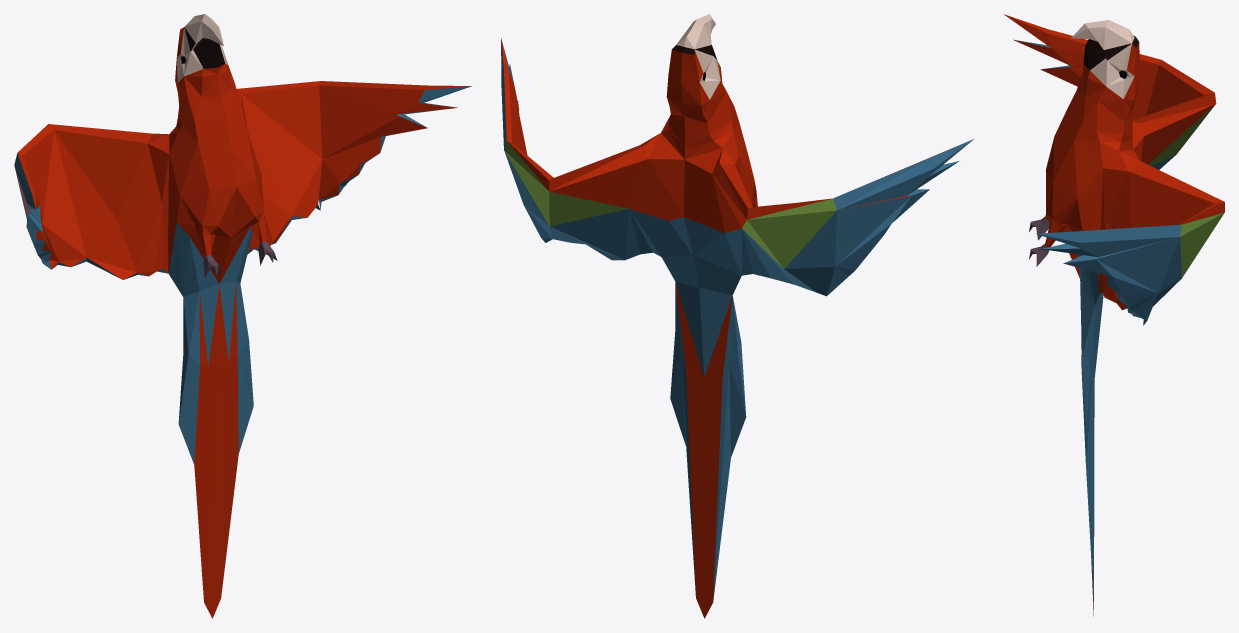
Rendered from Parrot.glb.
The picture shows the model from 3 angles, left to right: view 1: azimuth 30°, elevation 25°; view 2: azimuth 150°, elevation 25°; view 3: azimuth 270°, elevation 25°; orthographic projection.
Visible parts, largest first — view 1: Object_0; view 2: Object_0; view 3: Object_0.
Boxes of the visible parts, x1=… form: Object_0: x1=14, y1=14, x2=471, y2=618; Object_0: x1=501, y1=14, x2=973, y2=618; Object_0: x1=1004, y1=14, x2=1224, y2=616.
Size of the model in its own units: 79.5 by 100 by 33.7.
